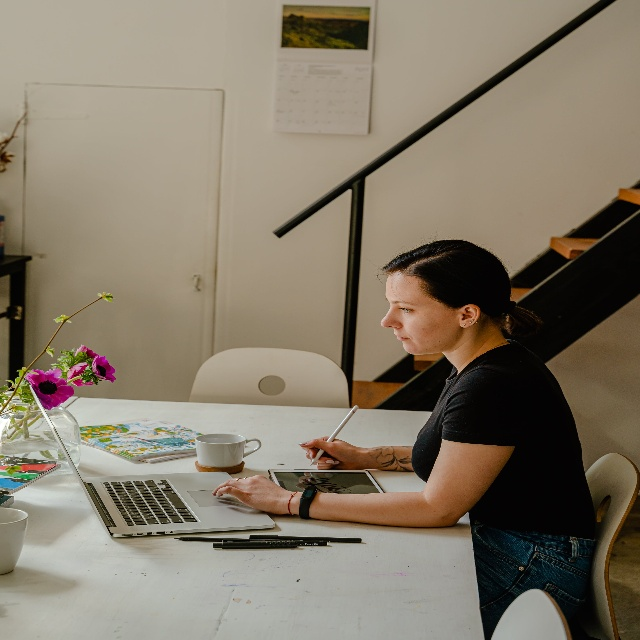Sin_guantes: (213, 467, 292, 516), (299, 432, 370, 470)
